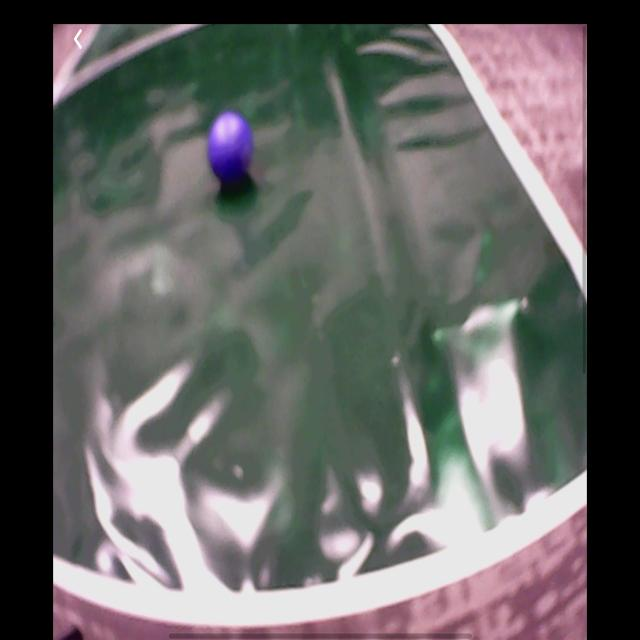ball: (209, 112, 253, 183)
